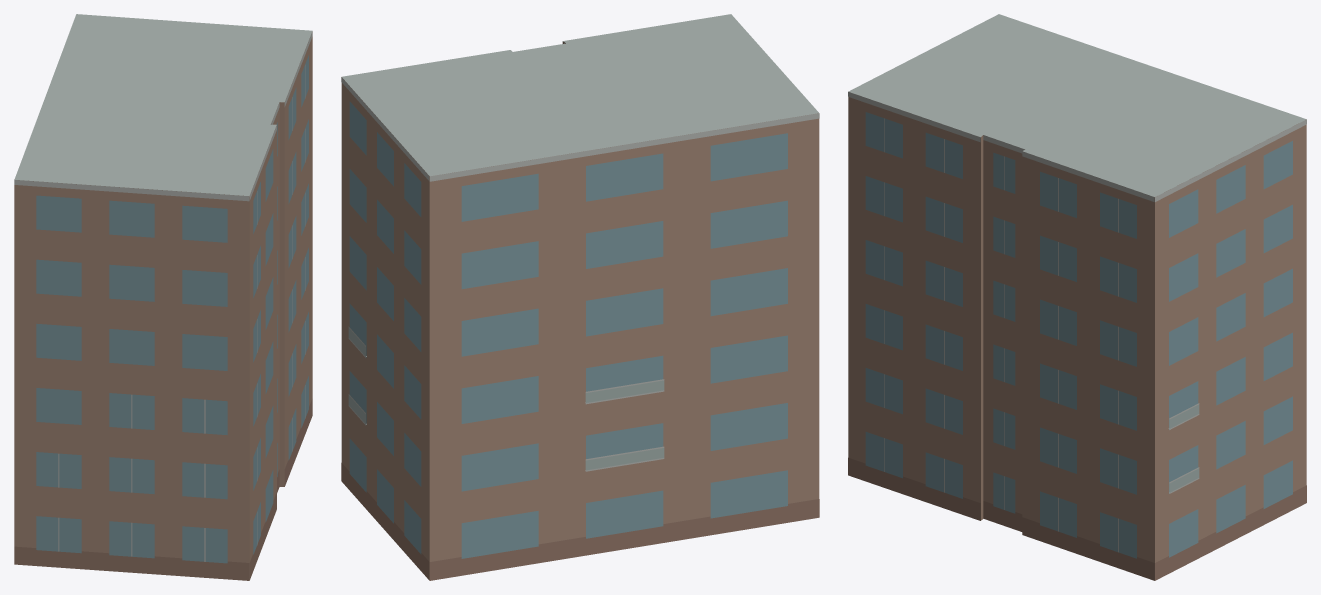
Rendered from survey-upis-32593078.glb.
The picture shows the model from 3 angles, left to right: view 1: azimuth 30°, elevation 25°; view 2: azimuth 150°, elevation 25°; view 3: azimuth 270°, elevation 25°; orthographic projection. The views are drawn at different scales.
Visible parts, largest first — view 1: survey-upis-32593078.tmp; view 2: survey-upis-32593078.tmp; view 3: survey-upis-32593078.tmp.
Boxes of the visible parts, bbox=[...] form: survey-upis-32593078.tmp: bbox=[14, 14, 312, 580]; survey-upis-32593078.tmp: bbox=[341, 14, 819, 580]; survey-upis-32593078.tmp: bbox=[848, 14, 1306, 580].
Size of the model in its own units: 18.75 by 18.3 by 19.83.
